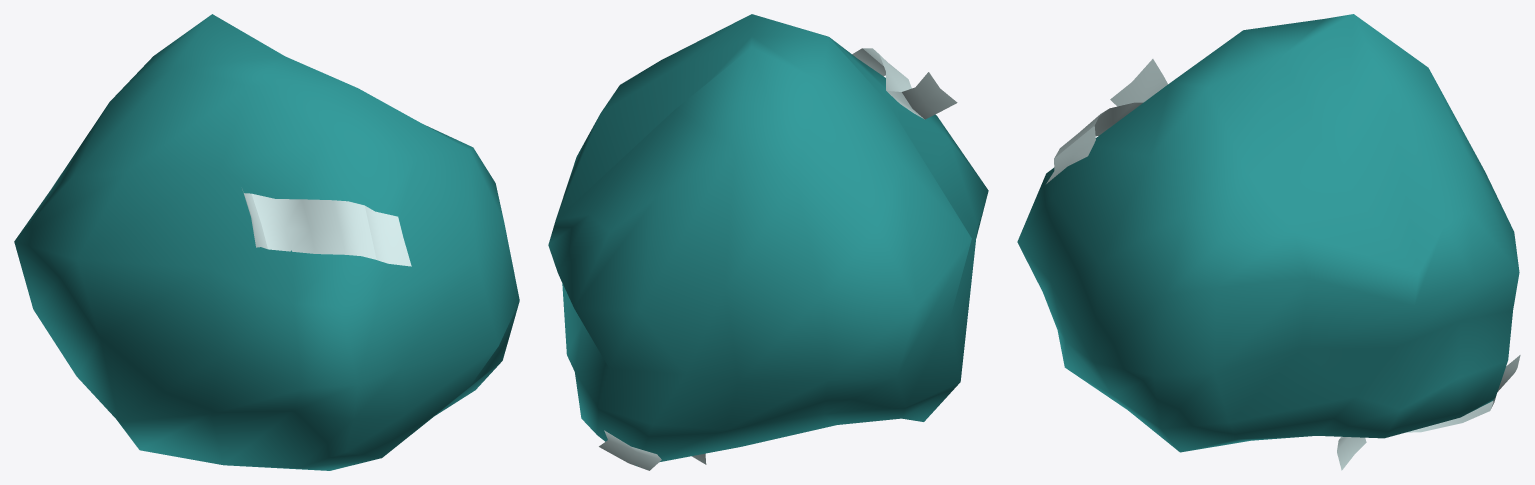
File: SM_TopTree.FBX
3 renders of one model, left to right at view 1: azimuth 30°, elevation 25°; view 2: azimuth 150°, elevation 25°; view 3: azimuth 270°, elevation 25°, orthographic. The views are drawn at different scales.
Visible parts, largest first — view 1: SM_TopTree; view 2: SM_TopTree; view 3: SM_TopTree.
Boxes of the visible parts, x1,y1,x2,y2 form: SM_TopTree: (14,14,519,470); SM_TopTree: (548,14,988,470); SM_TopTree: (1017,14,1520,470).
Size of what is drawn, in the model's own units: 260 by 261 by 288.
